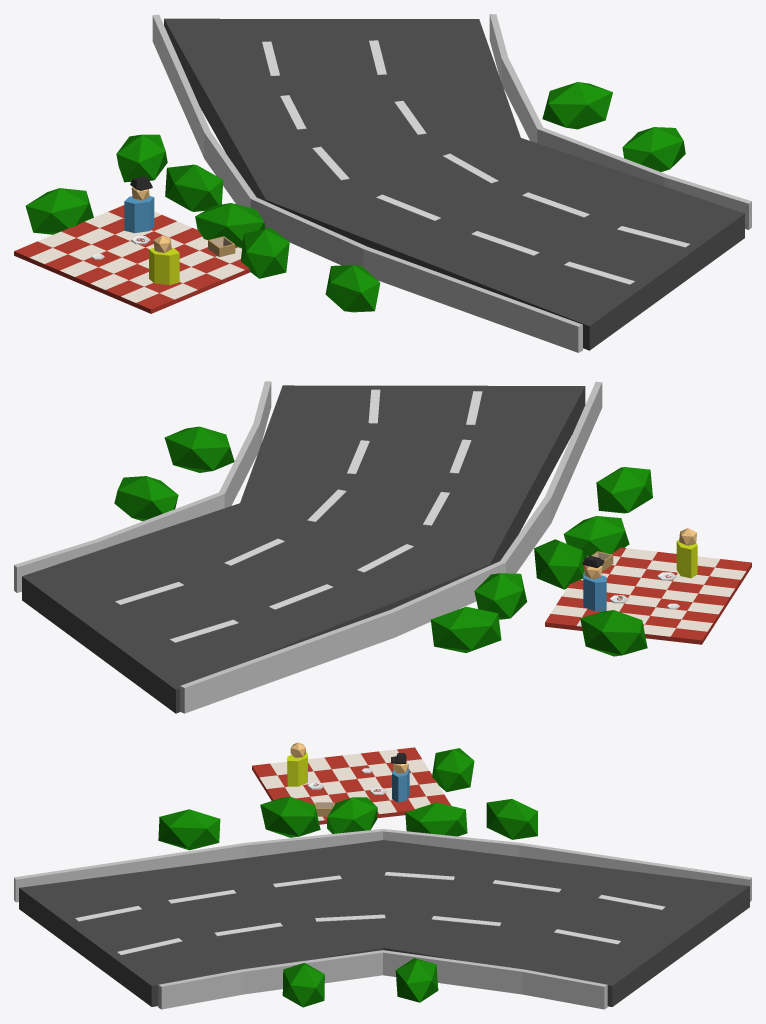
The model's file is highway_02_1.fbx.
3 views of the same model, one above another, from view 1: azimuth 30°, elevation 25°; view 2: azimuth 150°, elevation 25°; view 3: azimuth 270°, elevation 25° (orthographic). The views are drawn at different scales.
Parts seen in each view (by area): view 1: autobahn02.003, leitPlankOutside.003, PikNikDeck, leitPlankInside.003, Icosphere.006, Icosphere.028, Icosphere.002, Icosphere.001, Icosphere.033, Icosphere.003, Icosphere.005, Icosphere.004 (+2 smaller); view 2: autobahn02.003, leitPlankOutside.003, PikNikDeck, leitPlankInside.003, Icosphere.004, Icosphere.033, Icosphere.028, Icosphere.001, Icosphere.006, Icosphere.003, Icosphere.005, Icosphere.002 (+2 smaller); view 3: autobahn02.003, leitPlankInside.003, leitPlankOutside.003, PikNikDeck, Icosphere.001, Icosphere.005, Icosphere.004, Icosphere.002, Icosphere.033, Icosphere.003, Icosphere.006, Icosphere.028 (+2 smaller).
Boxes of the visible parts, bbox=[...] form: autobahn02.003: bbox=[164, 18, 744, 350]; leitPlankOutside.003: bbox=[152, 14, 582, 352]; PikNikDeck: bbox=[14, 205, 250, 313]; leitPlankInside.003: bbox=[489, 14, 751, 229]; Icosphere.006: bbox=[542, 82, 612, 129]; Icosphere.028: bbox=[25, 188, 93, 234]; Icosphere.002: bbox=[165, 164, 223, 211]; Icosphere.001: bbox=[325, 265, 380, 312]; Icosphere.033: bbox=[622, 127, 685, 171]; Icosphere.003: bbox=[195, 203, 265, 248]; Icosphere.005: bbox=[241, 227, 289, 278]; Icosphere.004: bbox=[116, 134, 167, 182]; autobahn02.003: bbox=[22, 385, 585, 713]; leitPlankOutside.003: bbox=[180, 381, 602, 713]; PikNikDeck: bbox=[545, 547, 751, 644]; leitPlankInside.003: bbox=[14, 381, 271, 592]; Icosphere.004: bbox=[431, 606, 501, 652]; Icosphere.033: bbox=[164, 426, 234, 472]; Icosphere.028: bbox=[580, 610, 647, 656]; Icosphere.001: bbox=[596, 467, 652, 513]; Icosphere.006: bbox=[114, 476, 178, 521]; Icosphere.003: bbox=[534, 539, 584, 589]; Icosphere.005: bbox=[563, 516, 629, 560]; Icosphere.002: bbox=[474, 573, 527, 619]; autobahn02.003: bbox=[19, 840, 749, 1006]; leitPlankInside.003: bbox=[158, 950, 607, 1009]; leitPlankOutside.003: bbox=[14, 829, 751, 902]; PikNikDeck: bbox=[252, 747, 451, 824]; Icosphere.001: bbox=[158, 809, 220, 850]; Icosphere.005: bbox=[260, 796, 320, 837]; Icosphere.004: bbox=[486, 799, 537, 839]; Icosphere.002: bbox=[405, 802, 467, 836]; Icosphere.033: bbox=[282, 963, 324, 1007]; Icosphere.003: bbox=[327, 797, 377, 833]; Icosphere.006: bbox=[395, 958, 438, 1002]; Icosphere.028: bbox=[432, 748, 474, 792].
Size of the model in its own units: 89.32 by 9.27 by 108.
